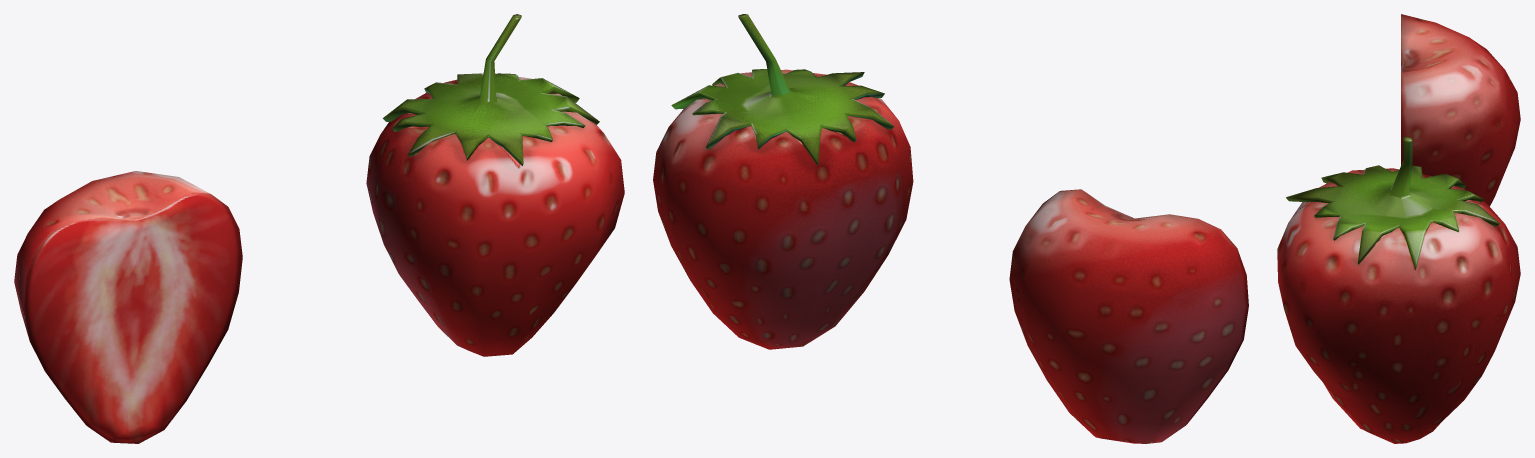
The model's file is fresas.fbx.
The picture shows the model from 3 angles, left to right: view 1: azimuth 30°, elevation 25°; view 2: azimuth 150°, elevation 25°; view 3: azimuth 270°, elevation 25°; orthographic projection. The views are drawn at different scales.
Visible parts, largest first — view 1: full_strawberry, half_strawberry; view 2: full_strawberry, half_strawberry; view 3: full_strawberry, half_strawberry.
Boxes of the visible parts, left/top/right/bottom form: full_strawberry: left=366, top=14, right=624, bottom=356; half_strawberry: left=14, top=171, right=242, bottom=443; full_strawberry: left=653, top=14, right=913, bottom=349; half_strawberry: left=1009, top=189, right=1248, bottom=443; full_strawberry: left=1277, top=136, right=1520, bottom=443; half_strawberry: left=1401, top=14, right=1520, bottom=206.
Bounding box in the file's own units: 172 × 96.03 × 65.89.
1 material, 1 textured.
